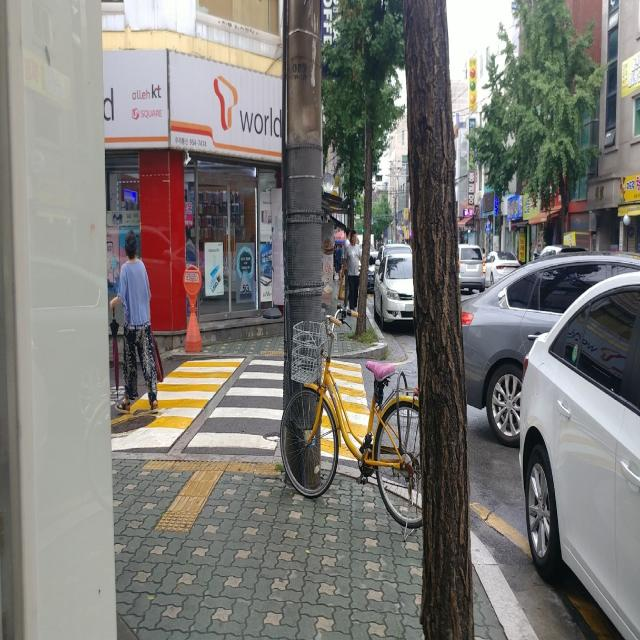횡단보도: (187, 358, 285, 452)
